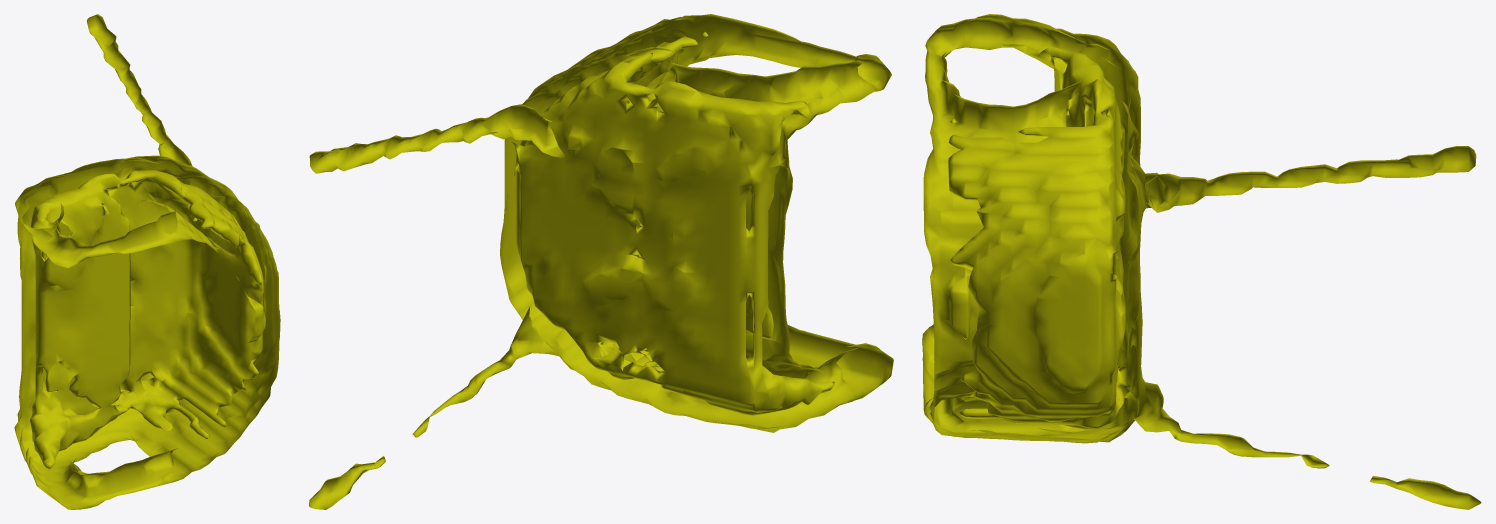
3 views of the same model, side by side, from view 1: azimuth 30°, elevation 25°; view 2: azimuth 150°, elevation 25°; view 3: azimuth 270°, elevation 25° (orthographic). The views are drawn at different scales.
Parts seen in each view (by area): view 1: world; view 2: world; view 3: world.
Boxes of the visible parts, x1,y1,x2,y2 form: world: (14, 14, 280, 509); world: (309, 14, 893, 509); world: (922, 14, 1481, 509).
Bounding box in the file's own units: 31.43 × 33.19 × 46.68.
